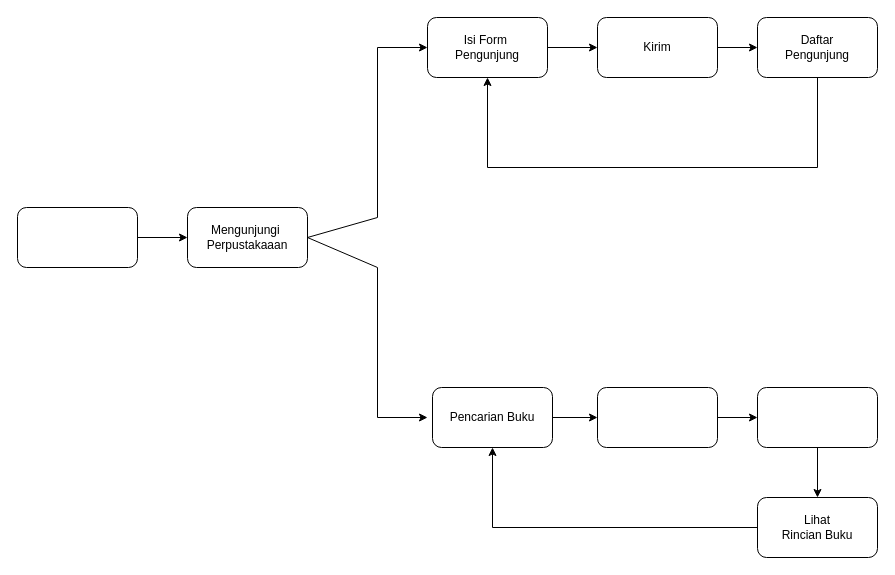
Some shapes in this 895 by 575 pixel diagram are drawn without their labels. The centre of each missing label's shape, as x and y in pixels:
"Hasil Pencarian" belongs at point (817, 417).
"Masukkan Kata Kunci" belongs at point (657, 417).
"User" belongs at point (77, 237).
